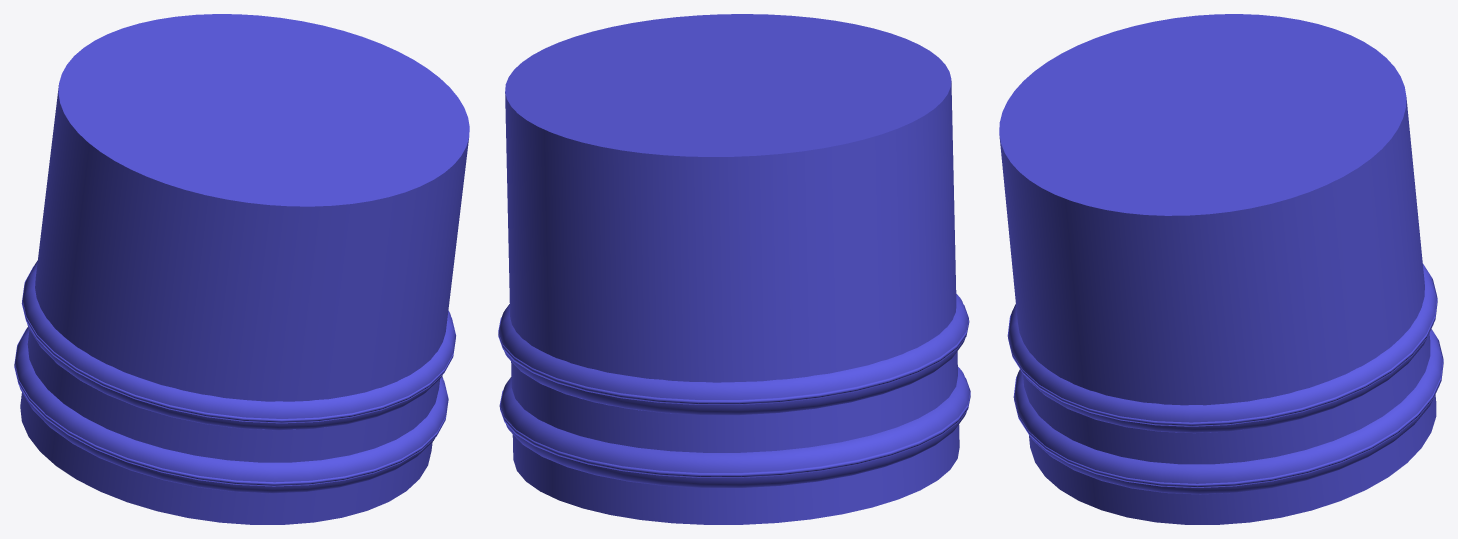
The model's file is bombilla186.obj.
3 renders of one model, left to right at view 1: azimuth 30°, elevation 25°; view 2: azimuth 150°, elevation 25°; view 3: azimuth 270°, elevation 25°, orthographic. The views are drawn at different scales.
Visible parts, largest first — view 1: Cylinder001, Cylinder004, Cylinder002, Cylinder003, Cylinder006; view 2: Cylinder001, Cylinder004, Cylinder003, Cylinder006, Cylinder002; view 3: Cylinder001, Cylinder004, Cylinder002, Cylinder003, Cylinder006.
Boxes of the visible parts, x1,y1,x2,y2 form: Cylinder001: (35, 14, 469, 401); Cylinder004: (14, 327, 448, 493); Cylinder002: (21, 261, 456, 430); Cylinder003: (27, 329, 439, 462); Cylinder006: (20, 393, 432, 524); Cylinder001: (505, 14, 956, 382); Cylinder004: (499, 367, 970, 487); Cylinder003: (511, 351, 957, 452); Cylinder006: (512, 425, 959, 524); Cylinder002: (498, 294, 969, 415); Cylinder001: (999, 14, 1424, 405); Cylinder004: (1013, 329, 1443, 494); Cylinder002: (1007, 264, 1437, 433); Cylinder003: (1023, 333, 1430, 464); Cylinder006: (1029, 394, 1436, 524).
Size of the model in its own units: 73.9 by 66.88 by 74.42.
